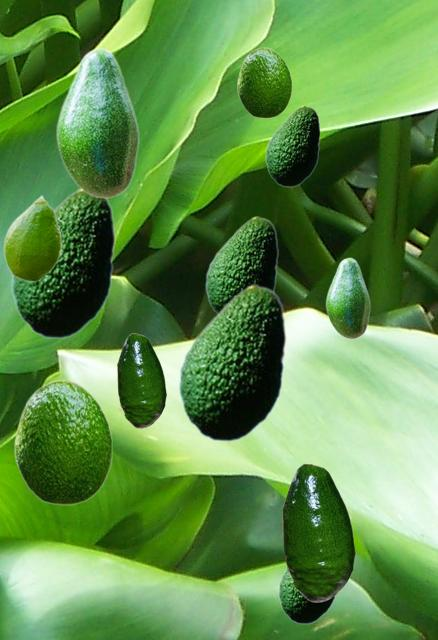avocado: (178, 284, 285, 441), (11, 188, 114, 338), (55, 47, 138, 198), (14, 379, 112, 504), (282, 463, 354, 601), (205, 216, 277, 312), (3, 194, 61, 281), (117, 333, 165, 427), (265, 105, 319, 186), (237, 47, 291, 117), (325, 257, 369, 338), (278, 568, 335, 623)
